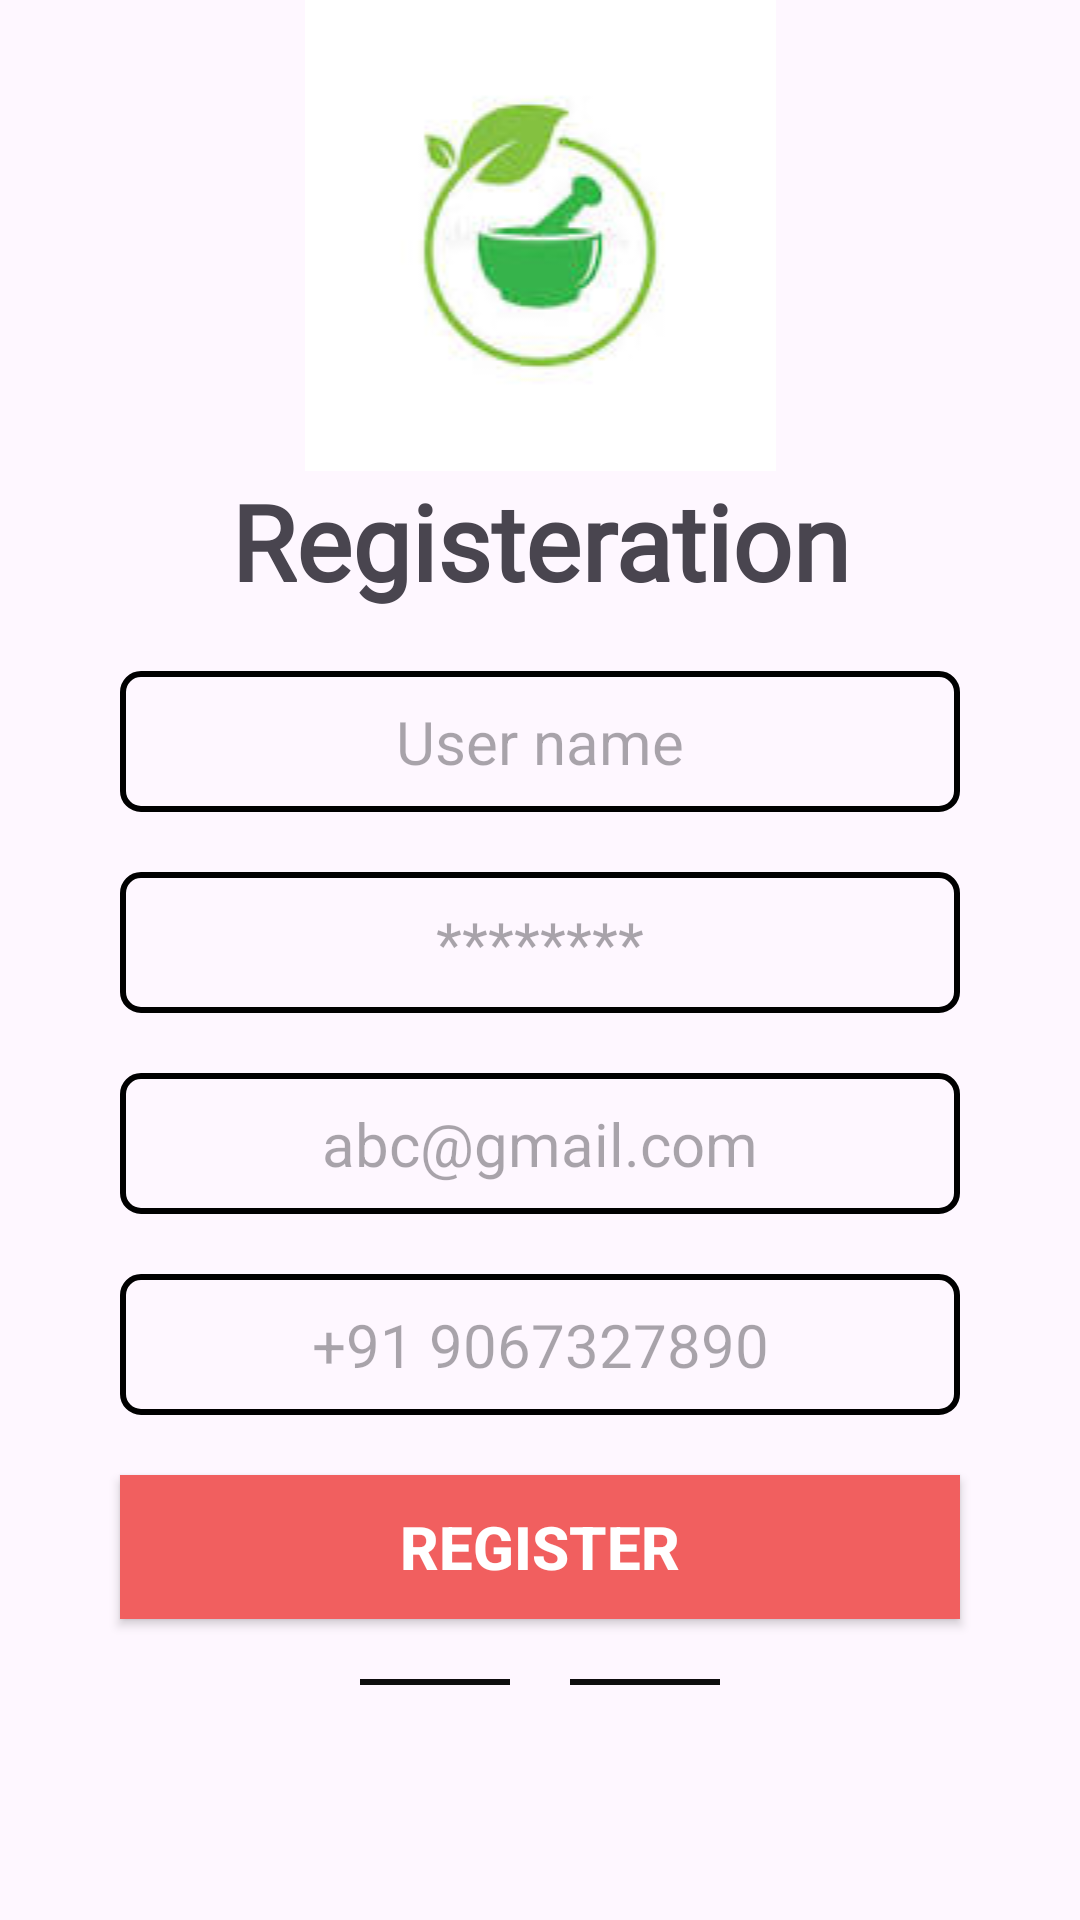

Where icons sit on this 1080px×1920px app screen, as (x1, y1, x2, y2):
homeremd: (423, 97, 657, 369)
